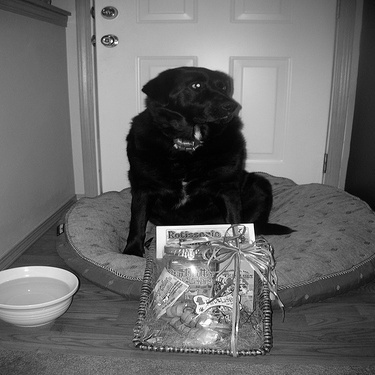dog: (114, 48, 307, 270)
